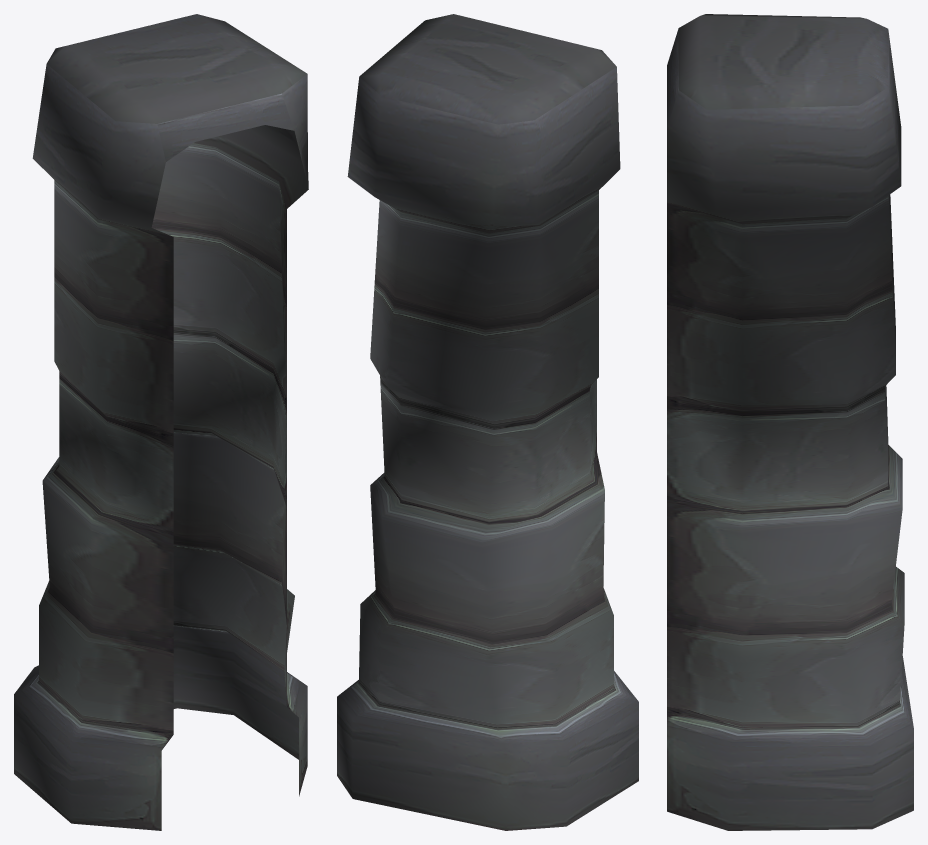
Rendered from Wall_Stop.FBX.
The picture shows the model from 3 angles, left to right: view 1: azimuth 30°, elevation 25°; view 2: azimuth 150°, elevation 25°; view 3: azimuth 270°, elevation 25°; orthographic projection. The views are drawn at different scales.
Parts seen in each view (by area): view 1: Object001; view 2: Object001; view 3: Object001.
Boxes of the visible parts, x1,y1,x2,y2 form: Object001: [14, 14, 308, 830]; Object001: [337, 14, 638, 830]; Object001: [667, 14, 913, 830].
Size of the model in its own units: 10436 by 30078 by 9264.
Materials: 1 (1 with a texture image).
